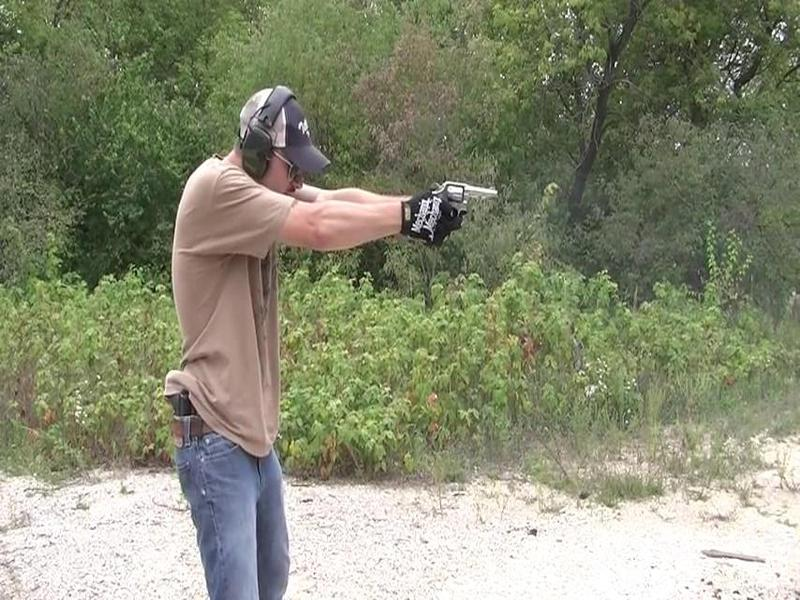Revolver: (419, 164, 510, 246)
